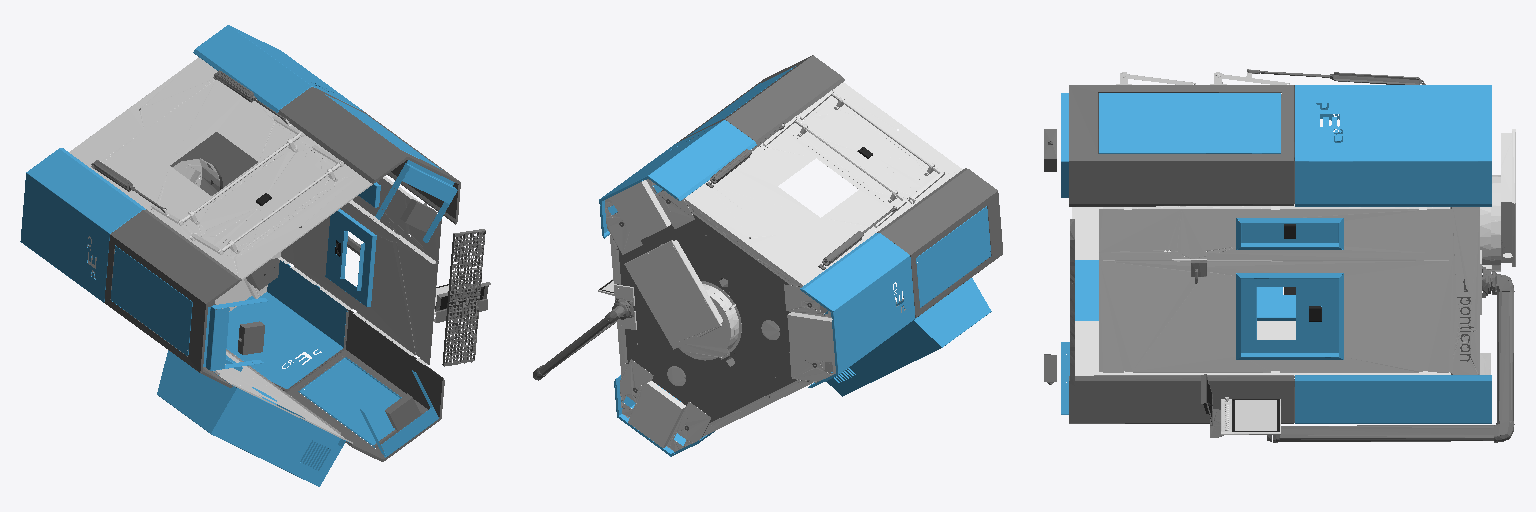
robot.urdf — ponticon:
<?xml version="1.0" ?>
<robot name="ponticon">
  <link name="baseLink">
    <contact>
      <lateral_friction value="1.0"/>
      <rolling_friction value="0.0"/>
      <contact_cfm value="0.0"/>
      <contact_erp value="0.8"/>
      <damping value=".0"/>
    </contact>
    <inertial>
      <origin rpy="0 0 0" xyz="0 0 0.0"/>
       <mass value="1"/>
       <inertia ixx="1" ixy="0" ixz="0" iyy="1" iyz="0" izz="2"/>
    </inertial>
    <visual>
      <origin rpy="0 0 0" xyz="0 0 0"/>
      <geometry>
		<mesh filename="mesh/ponticon_white.stl"/>
      </geometry>
       <material name="white">
        <color rgba="0.9 0.9 0.9 1"/>
      </material>
    </visual>
    <collision concave="yes">
      <origin rpy="0 0 0" xyz="0 0 0"/>
      <geometry>
	 	<mesh filename="mesh/ponticon_white.stl"/>
      </geometry>
    </collision>
  </link>
  <link name="blue">
    <contact>
      <lateral_friction value="1.0"/>
      <rolling_friction value="0.0"/>
      <contact_cfm value="0.0"/>
      <contact_erp value="0.8"/>
      <damping value=".0"/>
    </contact>
    <inertial>
      <origin rpy="0 0 0" xyz="0 0 0.0"/>
       <mass value="1"/>
       <inertia ixx="1" ixy="0" ixz="0" iyy="1" iyz="0" izz="2"/>
    </inertial>
    <visual>
      <origin rpy="0 0 0" xyz="0 0 0"/>
      <geometry>
		<mesh filename="mesh/ponticon_blue_open.stl"/>
      </geometry>
       <material name="glass">
          <color rgba="0.4, 0.4, 0.7, 1.0"/>
      </material>
    </visual>
    <collision concave="yes">
      <origin rpy="0 0 0" xyz="0 0 0"/>
      <geometry>
	 	<mesh filename="mesh/ponticon_blue_open.stl"/>
      </geometry>
    </collision>
  </link>
  <link name="black">
    <contact>
      <lateral_friction value="1.0"/>
      <rolling_friction value="0.0"/>
      <contact_cfm value="0.0"/>
      <contact_erp value="0.8"/>
      <damping value=".0"/>
    </contact>
    <inertial>
      <origin rpy="0 0 0" xyz="0 0 0.0"/>
       <mass value="1"/>
       <inertia ixx="1" ixy="0" ixz="0" iyy="1" iyz="0" izz="2"/>
    </inertial>
    <visual>
      <origin rpy="0 0 0" xyz="0 0 0"/>
      <geometry>
		<mesh filename="mesh/ponticon_black_open.stl"/>
      </geometry>
       <material name="black">
        <color rgba="0.2 0.2 0.2 1"/>
      </material>
    </visual>
    <collision concave="yes">
      <origin rpy="0 0 0" xyz="0 0 0"/>
      <geometry>
	 	<mesh filename="mesh/ponticon_black_open.stl"/>
      </geometry>
    </collision>
  </link>
  <link name="grey">
    <contact>
      <lateral_friction value="1.0"/>
      <rolling_friction value="0.0"/>
      <contact_cfm value="0.0"/>
      <contact_erp value="0.8"/>
      <damping value=".0"/>
    </contact>
    <inertial>
      <origin rpy="0 0 0" xyz="0 0 0.0"/>
       <mass value="1"/>
       <inertia ixx="1" ixy="0" ixz="0" iyy="1" iyz="0" izz="2"/>
    </inertial>
    <visual>
      <origin rpy="0 0 0" xyz="0 0 0"/>
      <geometry>
		<mesh filename="mesh/ponticon_grey.stl"/>
      </geometry>
       <material name="black">
        <color rgba="0.5 0.5 0.5 1"/>
      </material>
    </visual>
    <collision concave="yes">
      <origin rpy="0 0 0" xyz="0 0 0"/>
      <geometry>
	 	<mesh filename="mesh/ponticon_grey.stl"/>
      </geometry>
    </collision>
  </link>
  <joint name="blackJoint" type="fixed">
      <parent link="baseLink"/>
      <child link="black"/>
      <origin xyz="0 0 0" rpy="0 0 0"/>
  </joint>
  <joint name="blueJoint" type="fixed">
      <parent link="baseLink"/>
      <child link="blue"/>
      <origin xyz="0 0 0" rpy="0 0 0"/>
  </joint>
  <joint name="greyJoint" type="fixed">
      <parent link="baseLink"/>
      <child link="grey"/>
      <origin xyz="0 0 0" rpy="0 0 0"/>
  </joint>
</robot>

--- Facts derived from the render (not from the file) ---
3 views of the same robot in one strip: view 1: azimuth 30°, elevation 25°; view 2: azimuth 150°, elevation 25°; view 3: azimuth 270°, elevation 25° (orthographic).
Robot: ponticon — 4 links, 3 joints (3 fixed); root link baseLink; default pose: all joints at 0.
Links seen in each view (by area): view 1: blue, baseLink, grey; view 2: baseLink, grey, blue; view 3: baseLink, blue, grey, black.
Link boxes in pixels (x1,y1,x2,y2): blue: [20, 25, 457, 486]; baseLink: [69, 57, 465, 443]; grey: [87, 70, 490, 461]; baseLink: [598, 82, 962, 451]; grey: [533, 55, 1002, 436]; blue: [599, 66, 991, 456]; baseLink: [1072, 69, 1515, 434]; blue: [1061, 85, 1491, 423]; grey: [1044, 69, 1514, 442]; black: [1203, 224, 1321, 431].
Size in the robot's own frame: 3410 by 3353 by 2872 metres.
Meshes: 4 distinct files referenced, 4 mesh visuals loaded (4 binary STL).